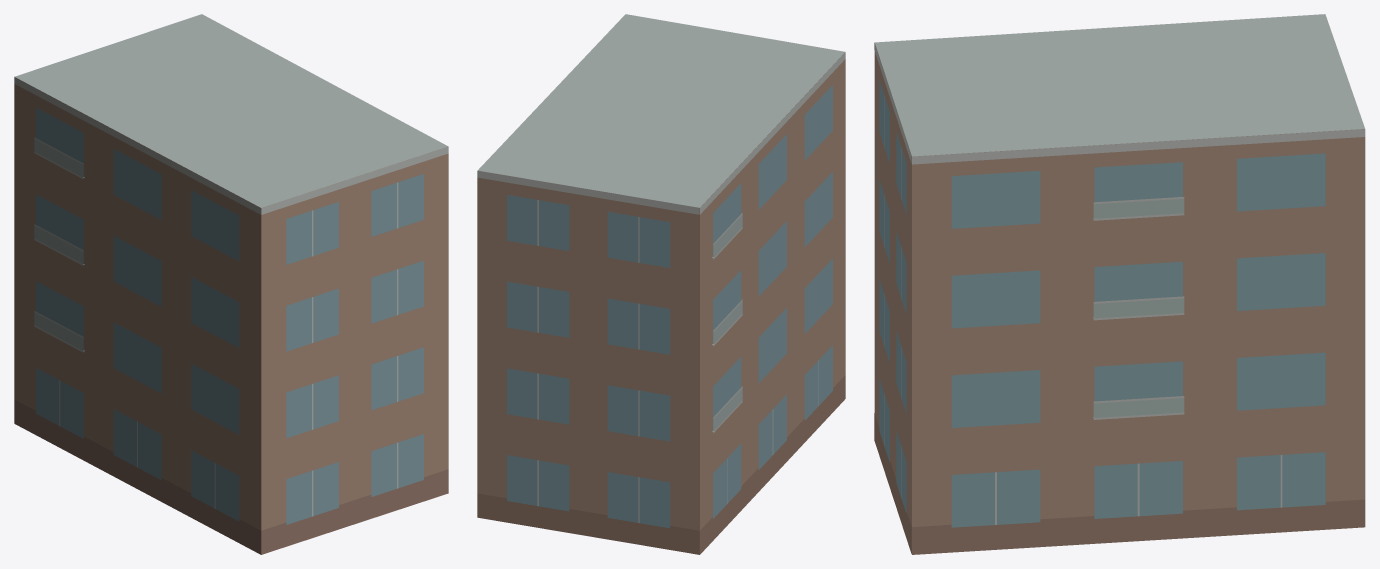
Rendered from survey-upis-32577529.glb.
The picture shows the model from 3 angles, left to right: view 1: azimuth 30°, elevation 25°; view 2: azimuth 150°, elevation 25°; view 3: azimuth 270°, elevation 25°; orthographic projection. The views are drawn at different scales.
Visible parts, largest first — view 1: survey-upis-32577529.tmp; view 2: survey-upis-32577529.tmp; view 3: survey-upis-32577529.tmp.
Boxes of the visible parts, x1,y1,x2,y2 form: survey-upis-32577529.tmp: (14, 14, 448, 554); survey-upis-32577529.tmp: (477, 14, 845, 554); survey-upis-32577529.tmp: (874, 14, 1365, 554).
Size of the model in its own units: 9.29 by 12.1 by 13.52.
